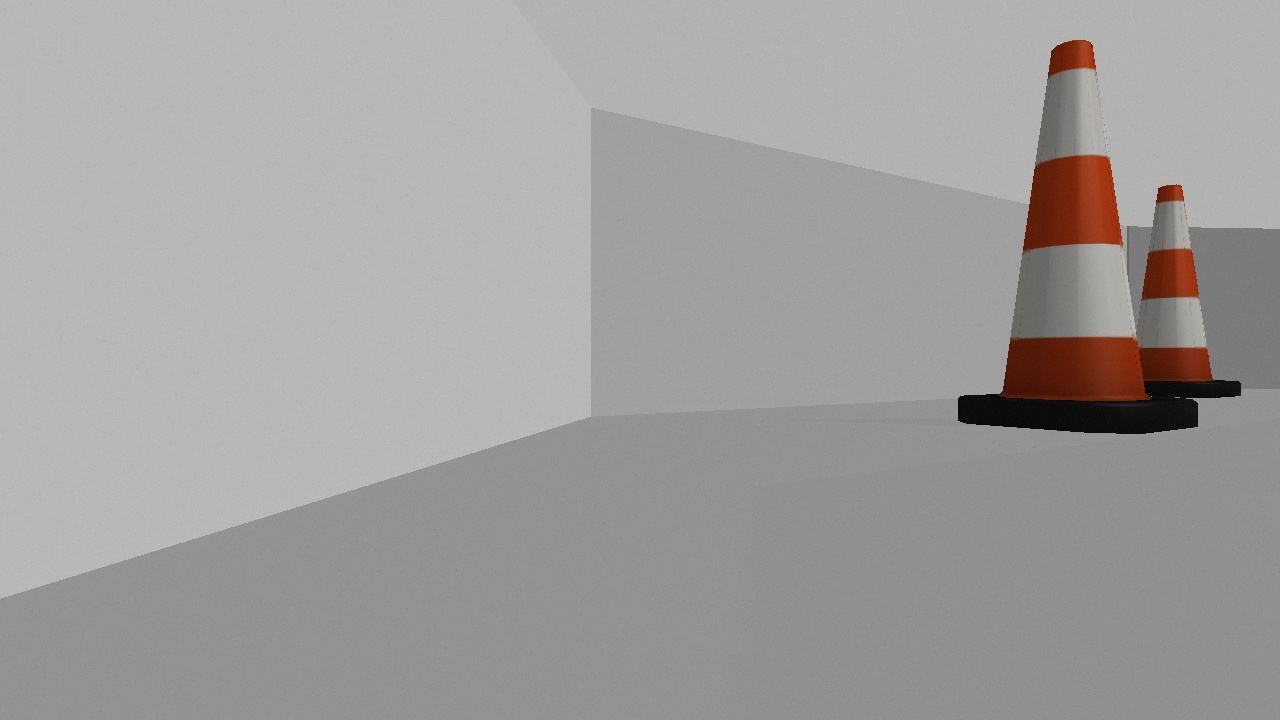barricade: (956, 38, 1198, 436), (1111, 182, 1241, 397)
